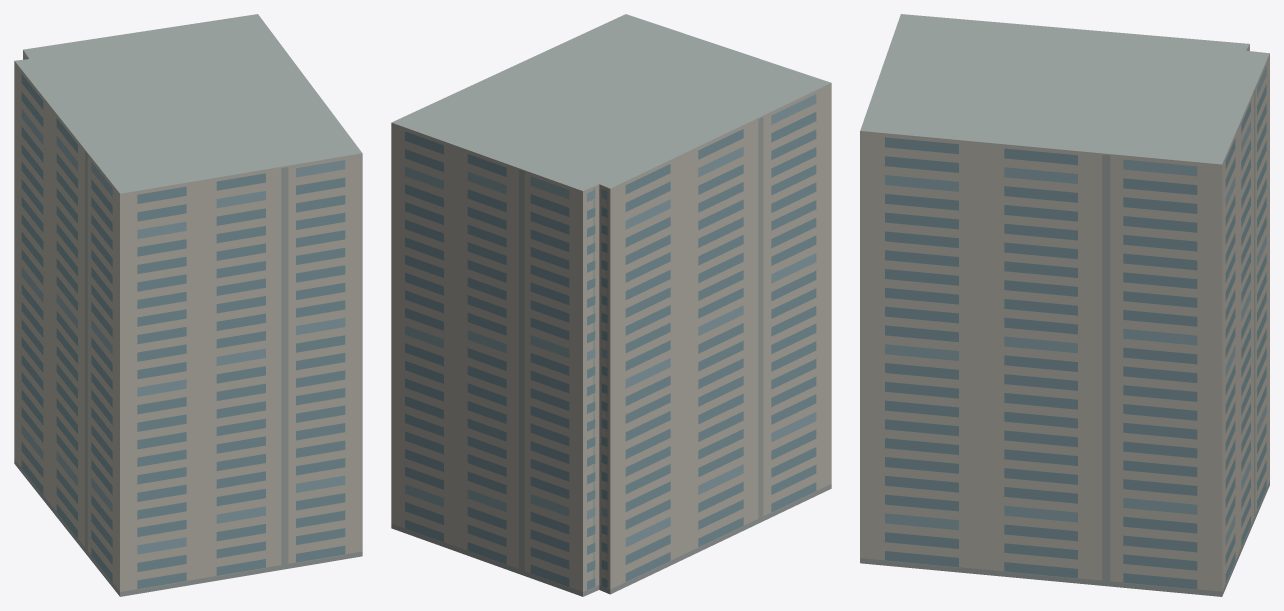
Rendered from survey-upis-32828181.glb.
The picture shows the model from 3 angles, left to right: view 1: azimuth 30°, elevation 25°; view 2: azimuth 150°, elevation 25°; view 3: azimuth 270°, elevation 25°; orthographic projection. The views are drawn at different scales.
Visible parts, largest first — view 1: survey-upis-32828181.tmp; view 2: survey-upis-32828181.tmp; view 3: survey-upis-32828181.tmp.
Boxes of the visible parts, bbox=[...] form: survey-upis-32828181.tmp: bbox=[14, 14, 362, 596]; survey-upis-32828181.tmp: bbox=[391, 14, 831, 596]; survey-upis-32828181.tmp: bbox=[860, 14, 1269, 596].
Size of the model in its own units: 53.36 by 71.45 by 61.37.
